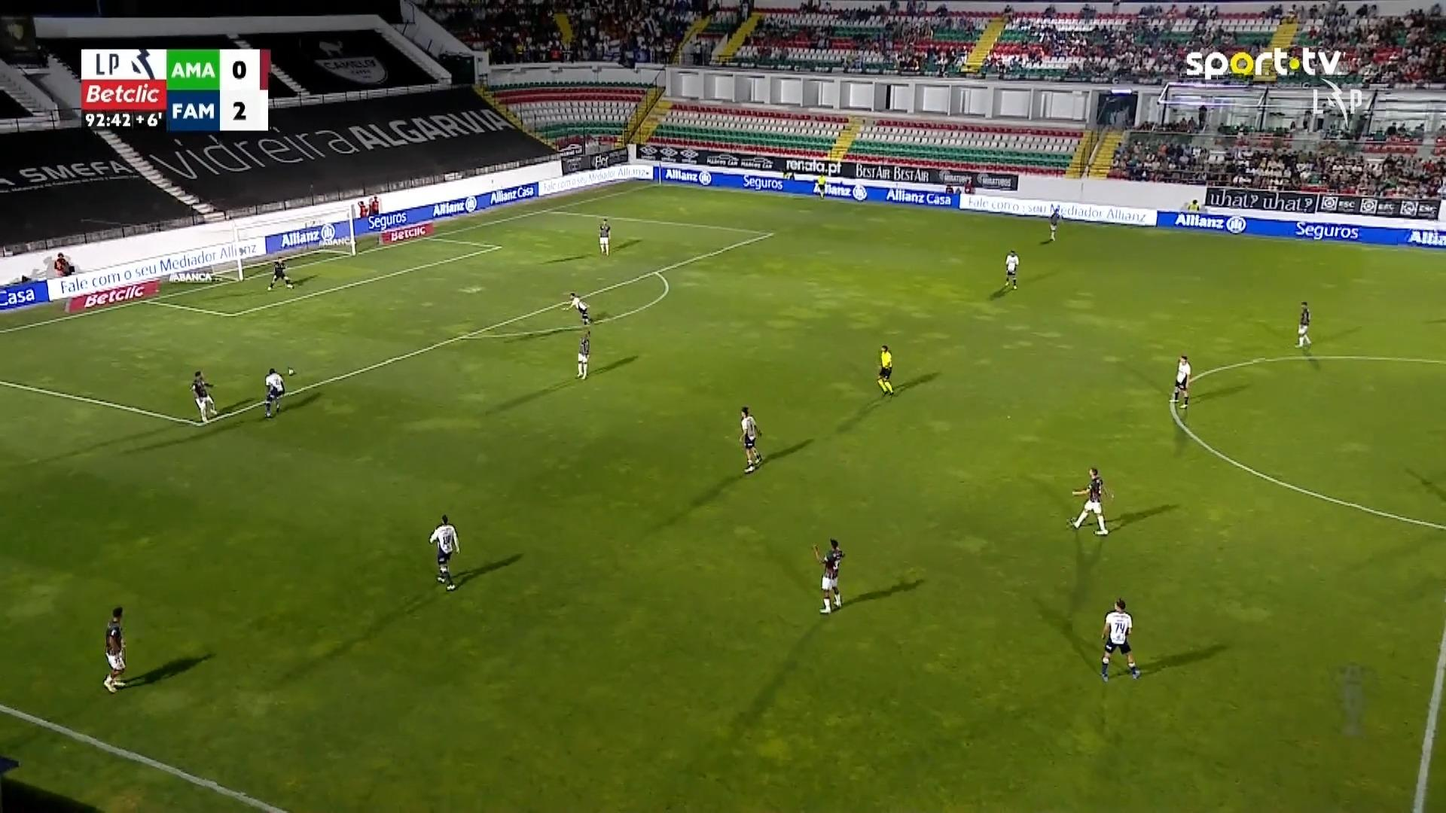ball: (286, 368, 294, 376)
goalkeeper: (266, 257, 294, 291)
player: (1100, 598, 1140, 682), (1066, 466, 1113, 535), (810, 538, 845, 614), (428, 513, 460, 591), (102, 605, 127, 693), (738, 406, 762, 473), (190, 370, 216, 424), (263, 367, 285, 418), (1172, 354, 1191, 408), (566, 291, 590, 325), (575, 329, 591, 379), (1295, 300, 1311, 348), (1004, 249, 1019, 289), (597, 218, 611, 255), (1048, 205, 1060, 242)
referee: (875, 344, 894, 395), (813, 173, 825, 199)
